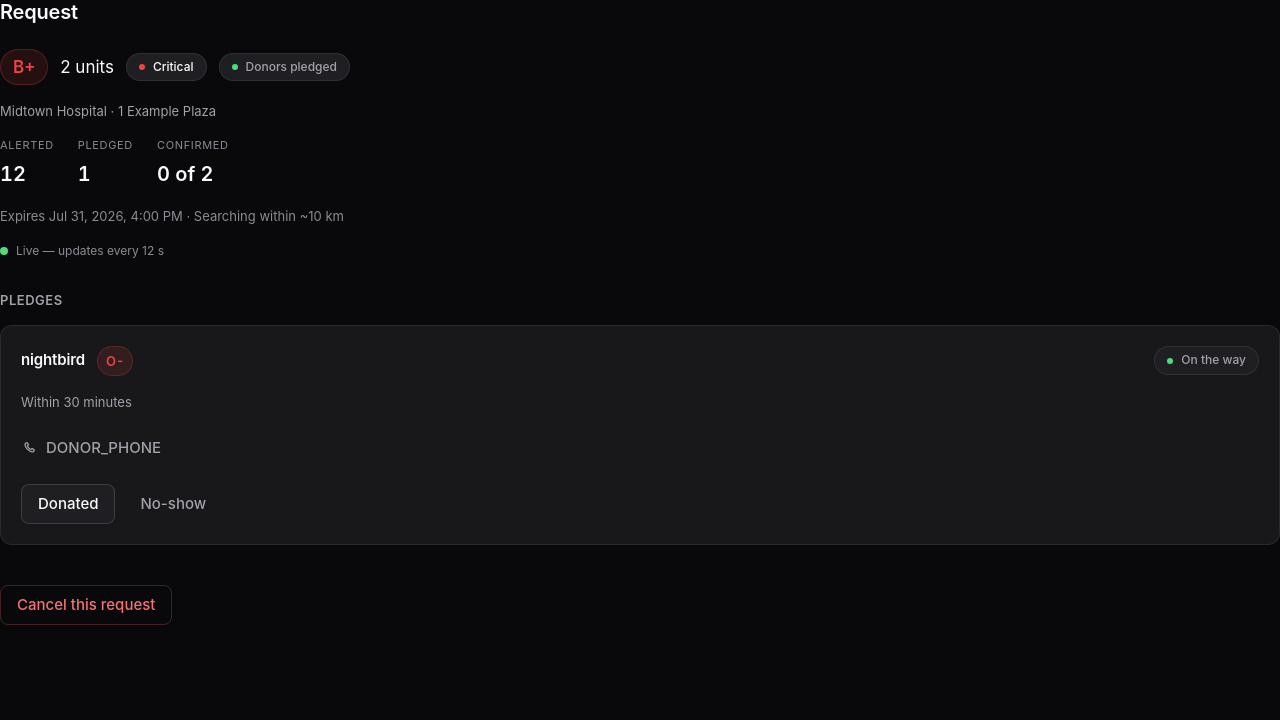
it: RequestDetailPage › cancels the request only after a confirmation and reports the released pledges
The width and height of the screenshot is (1280, 720).
Expected: the text "2 units" is shown, [60,54,114,80]
Click the button "Cancel this request".
click(86, 605)  # box [0,585,172,625]
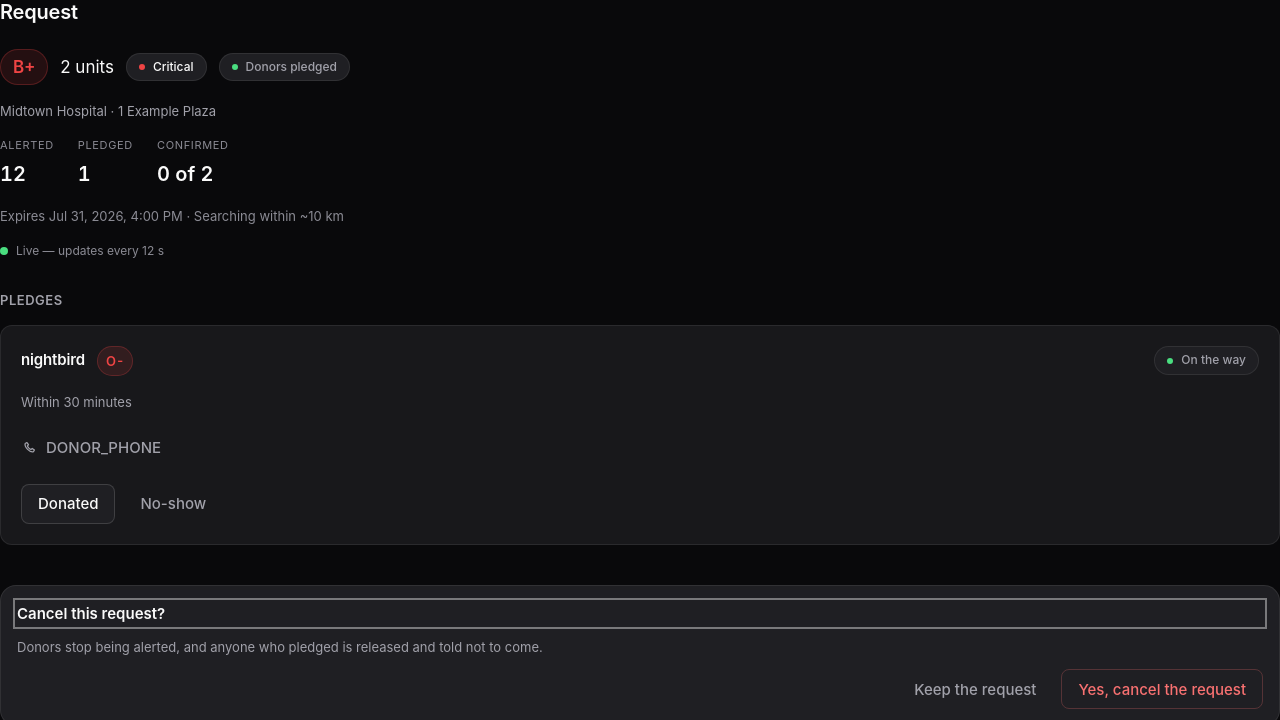
Click the button "Yes, cancel the request".
click(1162, 689)  # box [1061,669,1263,709]
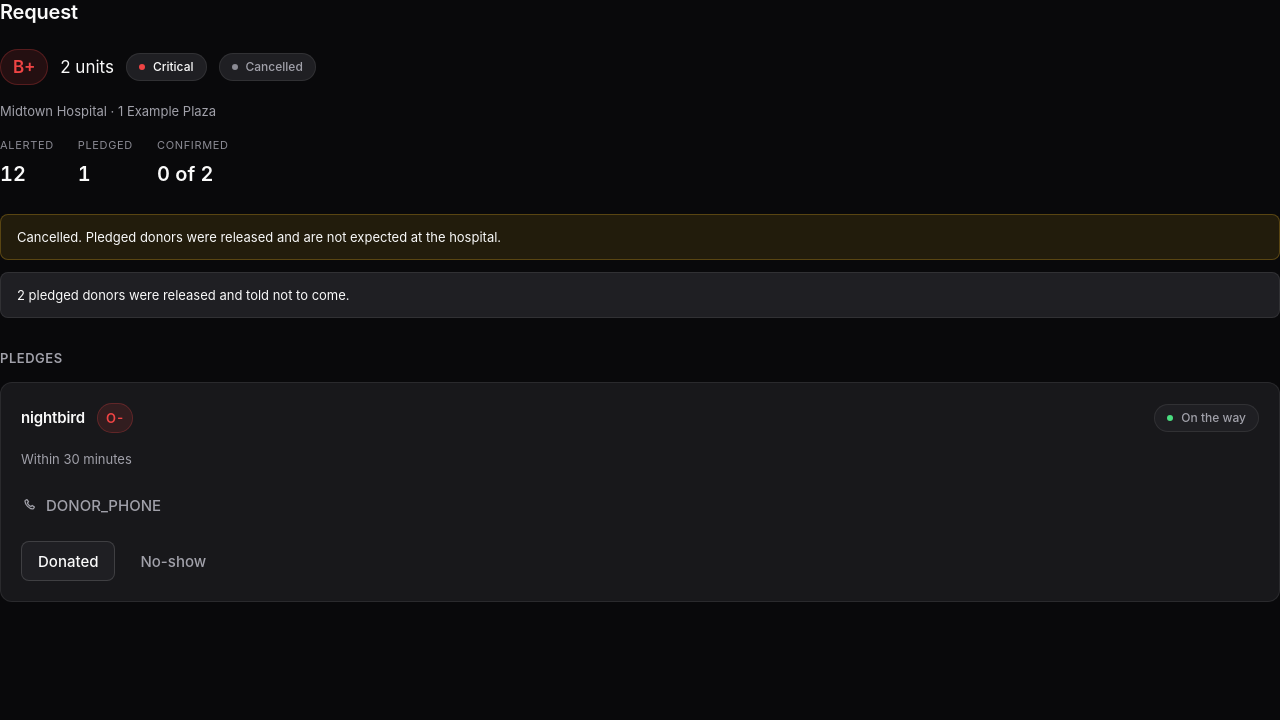
Result: the text "2 pledged donors were released and told not to come." is shown at [0,272,1279,318]
Result: the text "Cancelled. Pledged donors were released and are not expected at the hospital." is shown at [0,214,1279,260]
